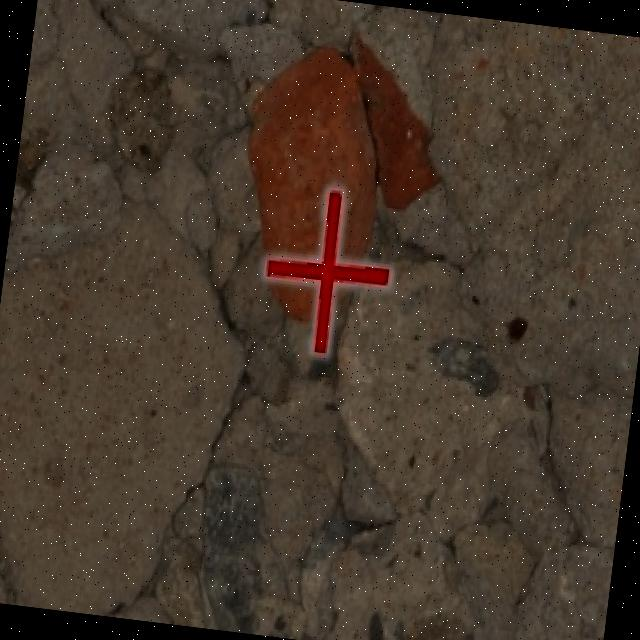x_marker: (256, 182, 398, 358)
